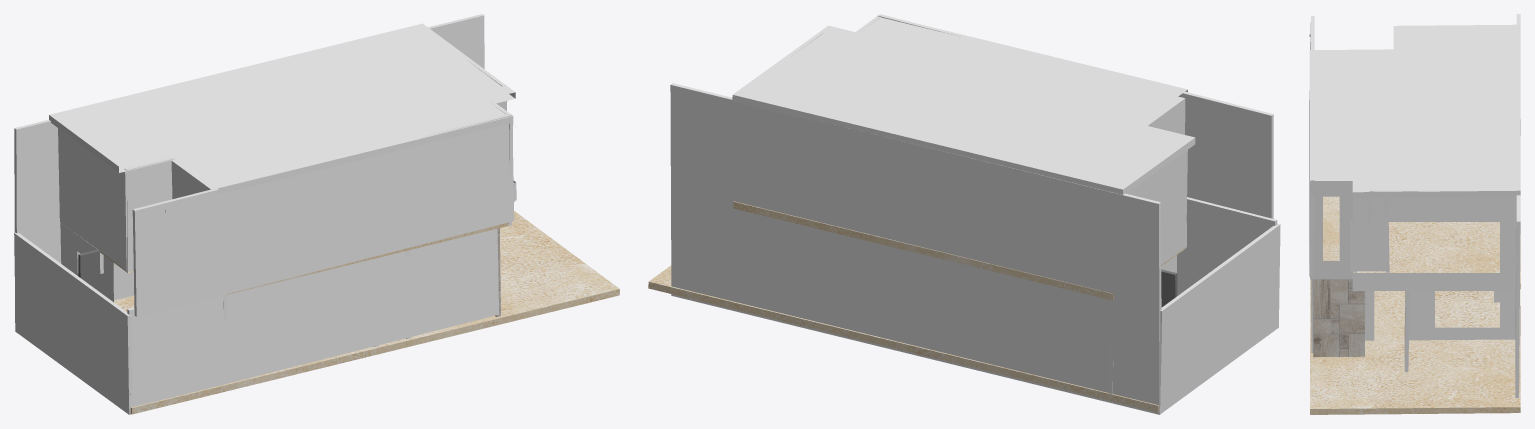
The model's file is Casa.obj.
3 views of the same model, side by side, from view 1: azimuth 30°, elevation 25°; view 2: azimuth 150°, elevation 25°; view 3: azimuth 270°, elevation 25° (orthographic). The views are drawn at different scales.
Visible parts, largest first — view 1: polySurface100; view 2: polySurface100; view 3: polySurface100.
Part boxes in pixels (x1,y1,x2,y2): polySurface100: [14, 14, 619, 414]; polySurface100: [648, 14, 1280, 414]; polySurface100: [1309, 14, 1520, 414].
Bounding box in the file's own units: 58.83 × 23.79 × 24.11.
Materials: 5 (4 with a texture image).
